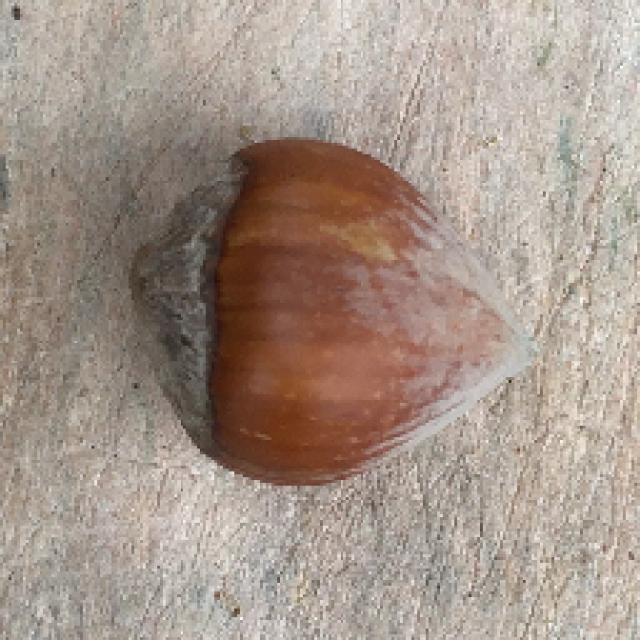QualityHazelnut: (124, 133, 536, 491)
